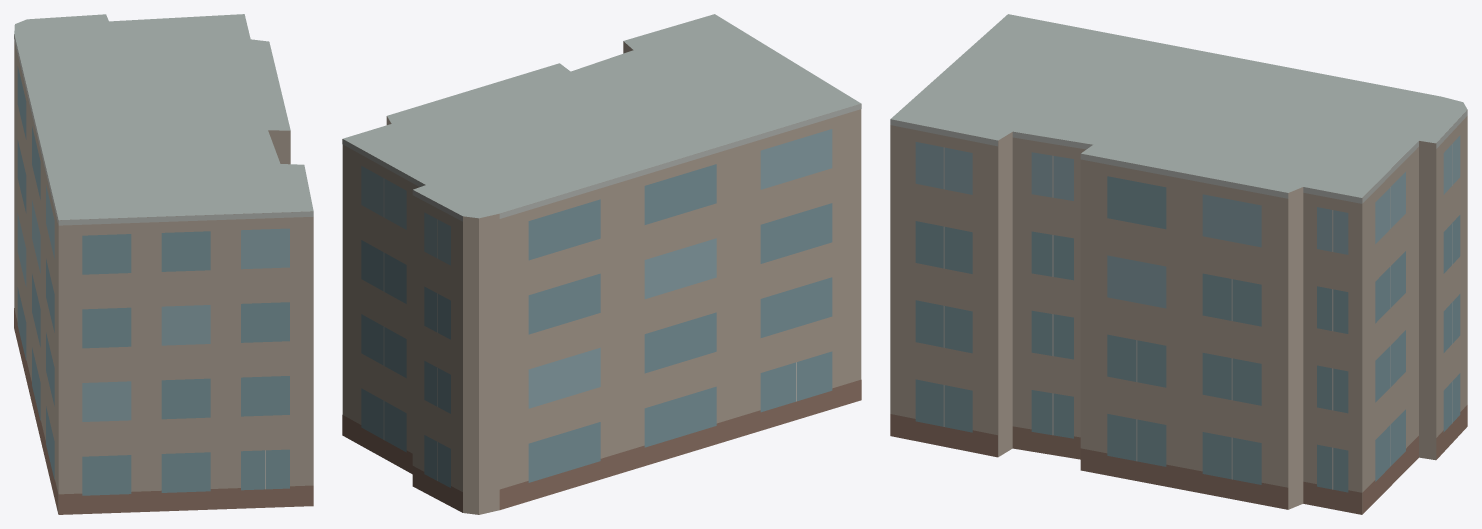
The model's file is survey-upis-32561253.glb.
3 renders of one model, left to right at view 1: azimuth 30°, elevation 25°; view 2: azimuth 150°, elevation 25°; view 3: azimuth 270°, elevation 25°, orthographic. The views are drawn at different scales.
Parts seen in each view (by area): view 1: survey-upis-32561253.tmp; view 2: survey-upis-32561253.tmp; view 3: survey-upis-32561253.tmp.
Part boxes in pixels (box(x1,y1,x2,y2)): survey-upis-32561253.tmp: box(14, 14, 313, 514); survey-upis-32561253.tmp: box(342, 14, 861, 514); survey-upis-32561253.tmp: box(890, 14, 1467, 514).
Bounding box in the file's own units: 16.45 × 13.2 × 21.81.
